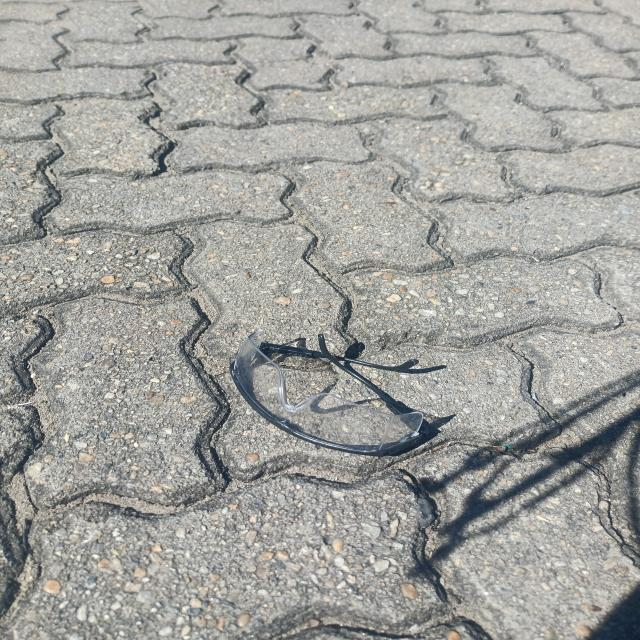oculos-epi: (230, 329, 423, 456), (333, 356, 425, 377)
